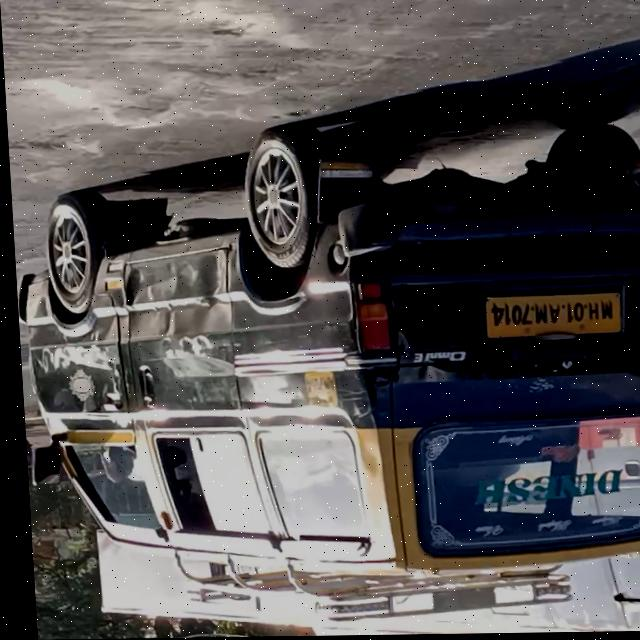plate: (481, 297, 627, 341)
